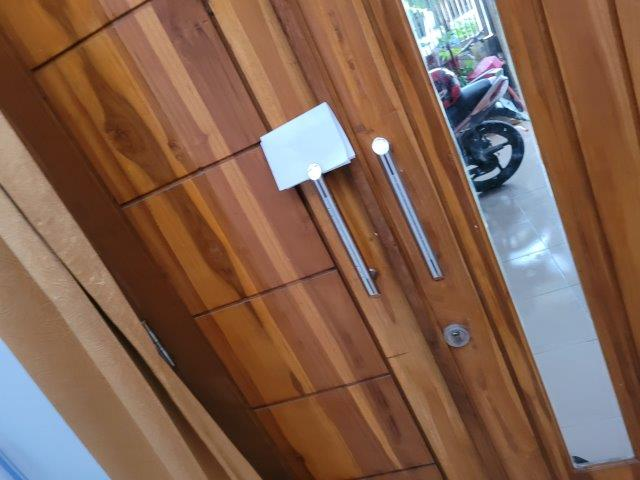kertas: (261, 101, 356, 189)
